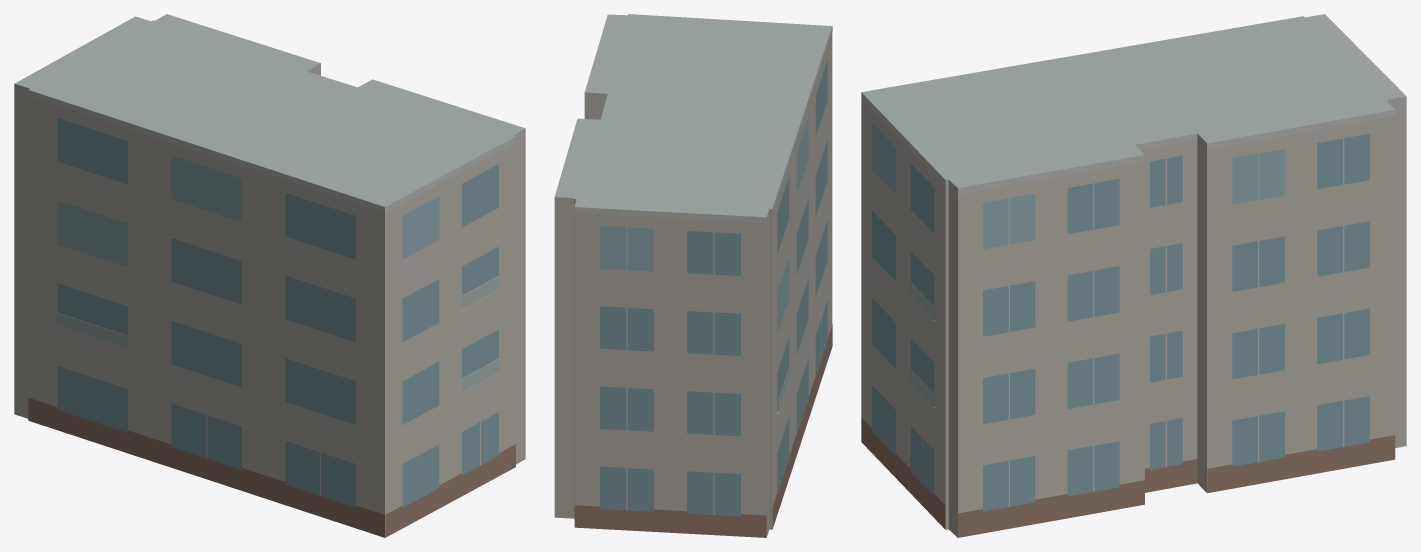
The model's file is survey-upis-33014490.glb.
3 renders of one model, left to right at view 1: azimuth 30°, elevation 25°; view 2: azimuth 150°, elevation 25°; view 3: azimuth 270°, elevation 25°, orthographic. The views are drawn at different scales.
Parts seen in each view (by area): view 1: survey-upis-33014490.tmp; view 2: survey-upis-33014490.tmp; view 3: survey-upis-33014490.tmp.
Boxes of the visible parts, x1=… form: survey-upis-33014490.tmp: x1=14, y1=14, x2=525, y2=537; survey-upis-33014490.tmp: x1=554, y1=14, x2=832, y2=537; survey-upis-33014490.tmp: x1=861, y1=14, x2=1406, y2=537.
Size of the model in its own units: 14.64 by 13.7 by 19.37.
